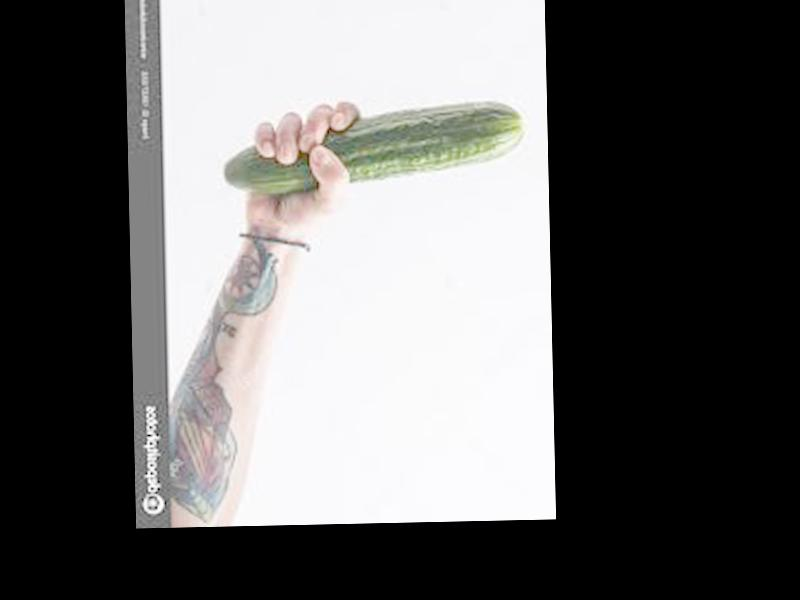Cucumber: (225, 100, 528, 193)
